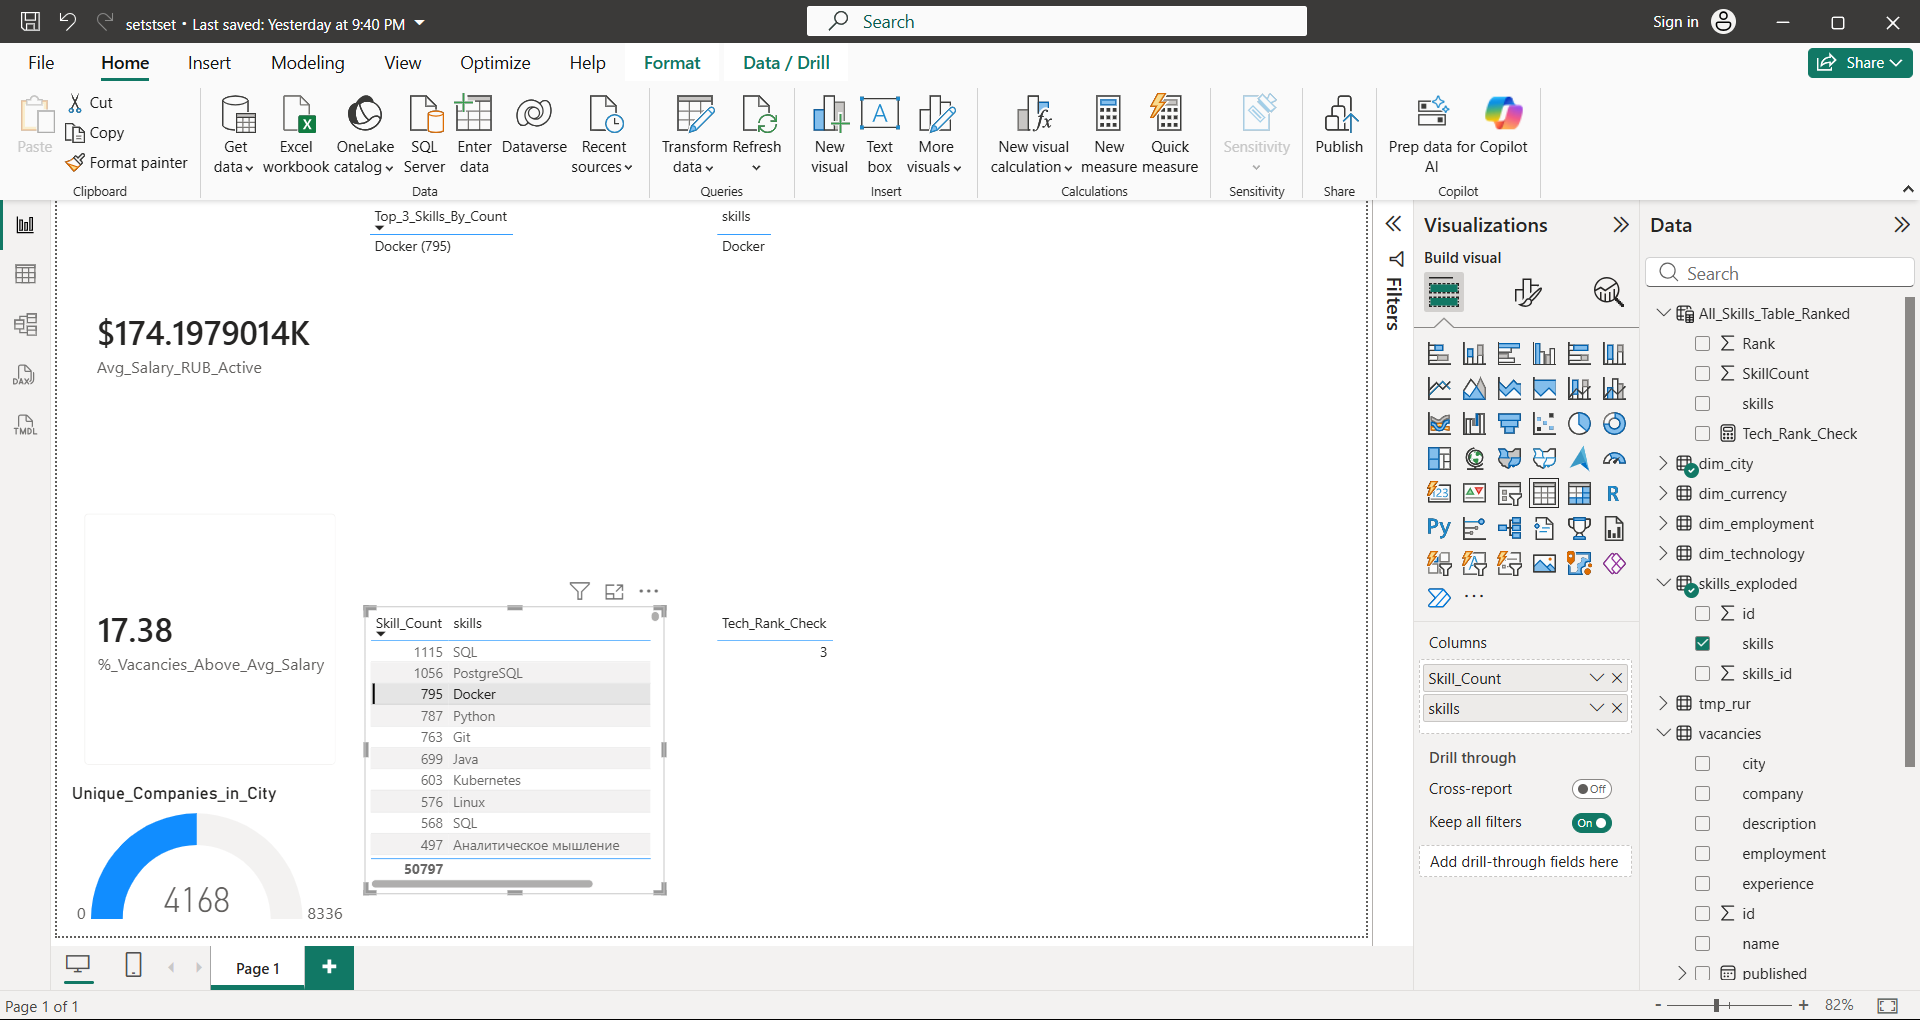

Layout of this report page (visuals, bound fields, positions):
{"tool":"powerbi","page":{"name":"Page 1","canvas":[1280,720],"ordinal":0},"visuals":[{"type":"cardVisual","fields":{"Data":["dim_city.Avg_Salary_RUB_Active"]},"box":[10,0,280,280],"z":0},{"type":"cardVisual","fields":{"Data":["dim_city.%_Vacancies_Above_Avg_Salary"]},"box":[10,290,280,280],"z":1000},{"type":"gauge","fields":{"Y":["dim_city.Unique_Companies_in_City"]},"box":[10,570,280,150],"z":2000},{"type":"tableEx","fields":{"Values":["dim_city.Top_3_Skills_By_Count"]},"box":[300,0,280,280],"z":3000},{"type":"tableEx","fields":{"Values":["dim_city.Tech_Vacancy_Rank","skills_exploded.skills"]},"box":[300.5,397.9,293.7,281.3],"z":4000},{"type":"tableEx","fields":{"Values":["All_Skills_Table_Ranked.Tech_Rank_Check"]},"box":[639.4,397.5,589,290.9],"z":5000},{"type":"tableEx","fields":{"Values":["skills_exploded.skills"]},"box":[639,0,589,280],"z":6000}]}

Visuals, with their boxes on the page's 1280x720 design canvas (x1, y1, x2, y2). These are canvas units, not pixel positions in the 1920x1020 screenshot, which may show the page scaled, cropped or inside an application window:
cardVisual - dim_city.Avg_Salary_RUB_Active: rect(10, 0, 290, 280)
cardVisual - dim_city.%_Vacancies_Above_Avg_Salary: rect(10, 290, 290, 570)
gauge - dim_city.Unique_Companies_in_City: rect(10, 570, 290, 720)
tableEx - dim_city.Top_3_Skills_By_Count: rect(300, 0, 580, 280)
tableEx - dim_city.Tech_Vacancy_Rank x skills_exploded.skills: rect(300, 398, 594, 679)
tableEx - All_Skills_Table_Ranked.Tech_Rank_Check: rect(639, 398, 1228, 688)
tableEx - skills_exploded.skills: rect(639, 0, 1228, 280)
